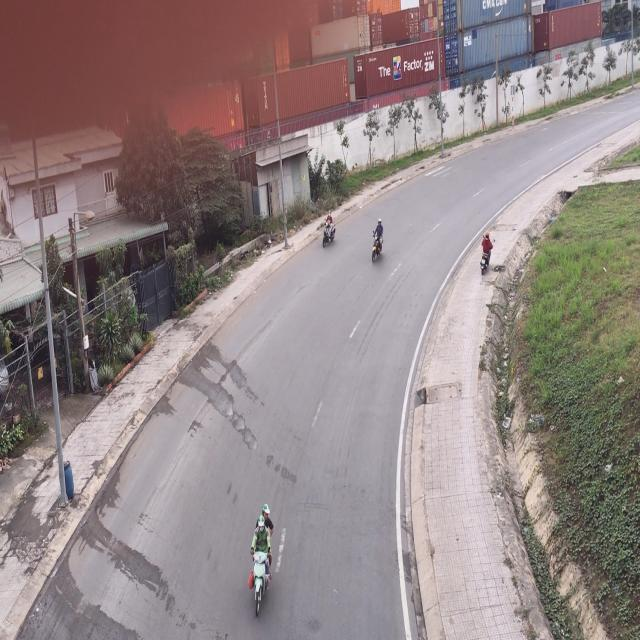motorbike: (248, 504, 277, 616), (368, 216, 386, 267), (321, 207, 336, 249), (480, 230, 492, 276)
